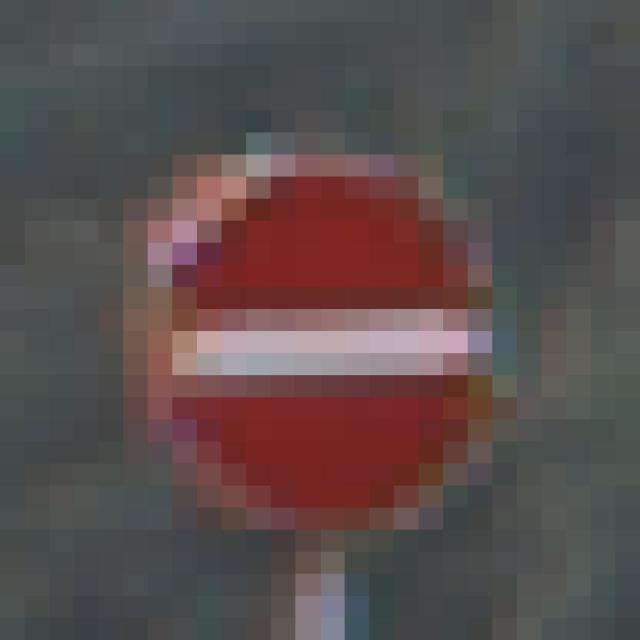No Entry: (124, 134, 518, 531)
